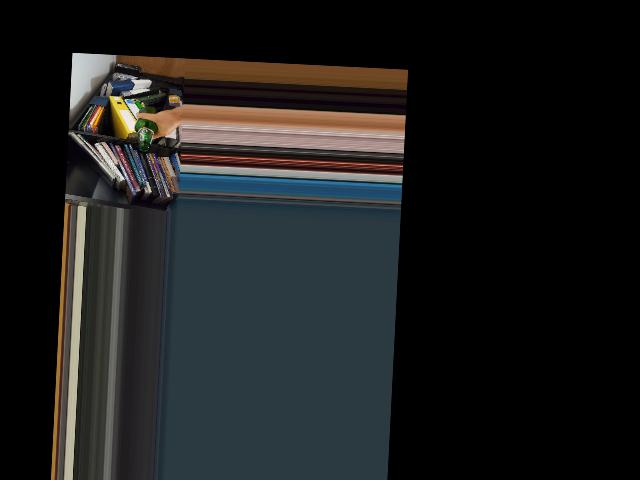beer: (134, 104, 158, 151)
